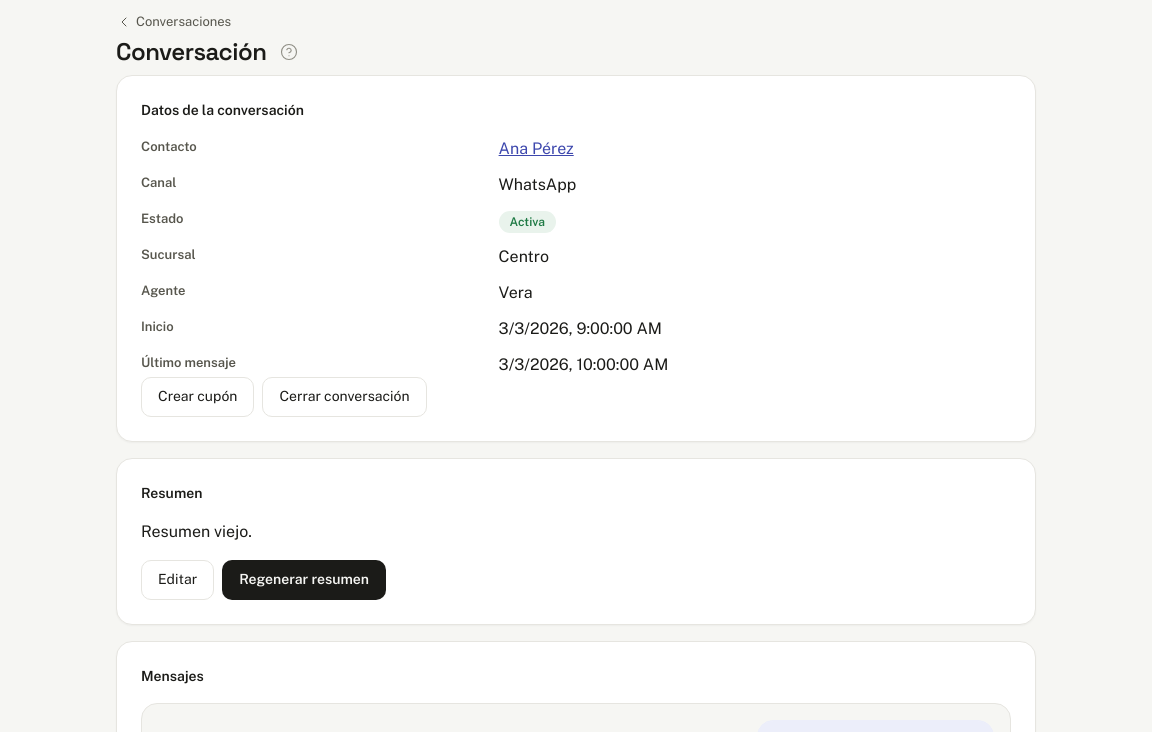
Test case: ConversationDetail › editar y guardar manda el PATCH con el texto nuevo
The width and height of the screenshot is (1152, 732).
Click the button "Editar" at [178, 580], box [141,560,214,600]
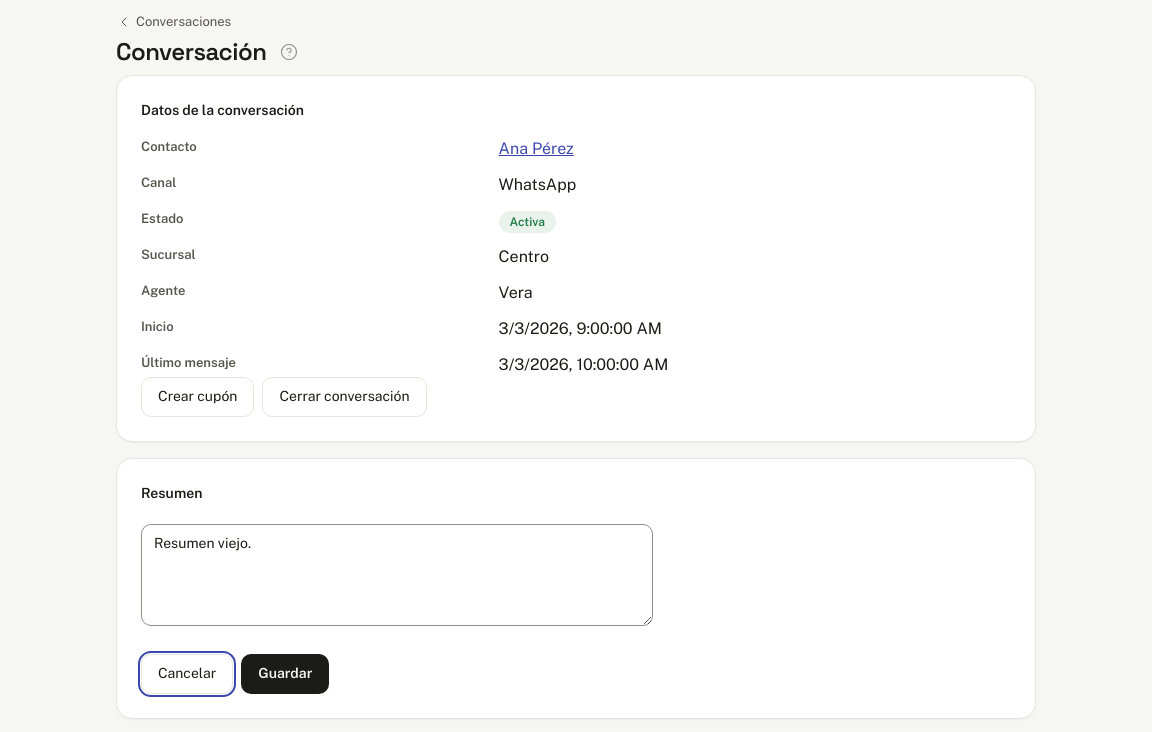
Expected: the text box named "Resumen de la conversación" holds "Resumen viejo."
Replace the text in the text box named "Resumen de la conversación" with "Resumen corregido." at [397, 575], box [141,524,653,626]
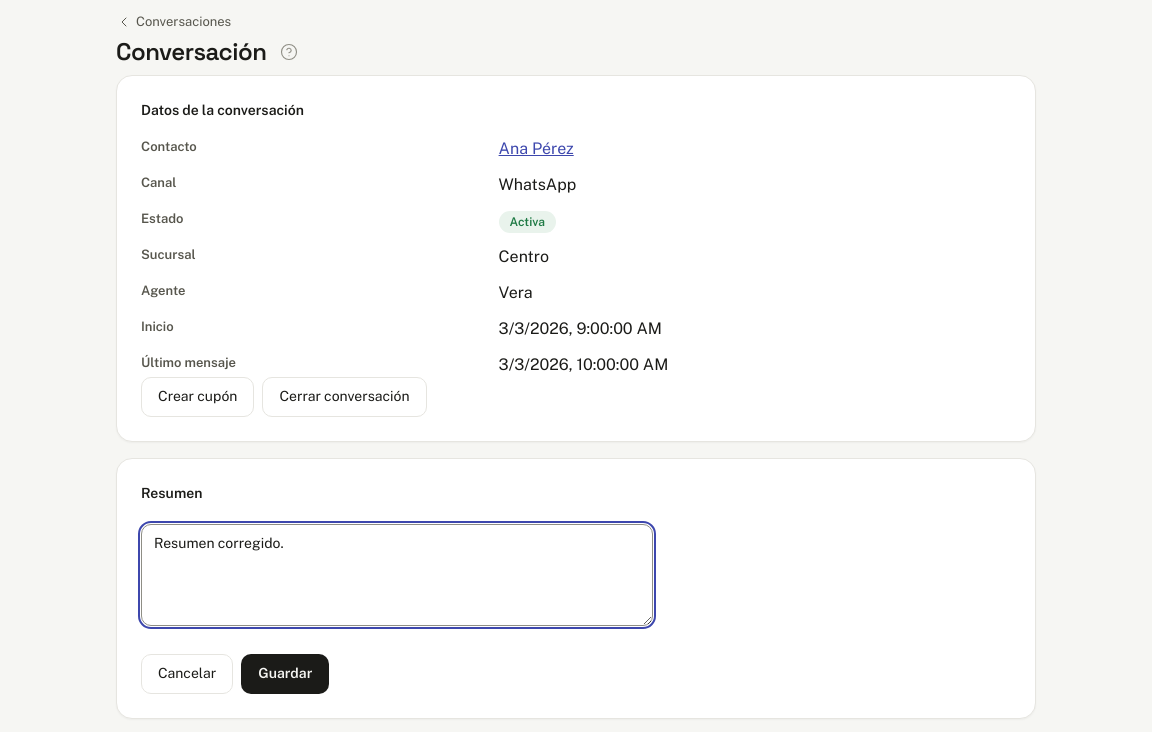
Click the button "Guardar" at [285, 674], box [241,654,329,694]
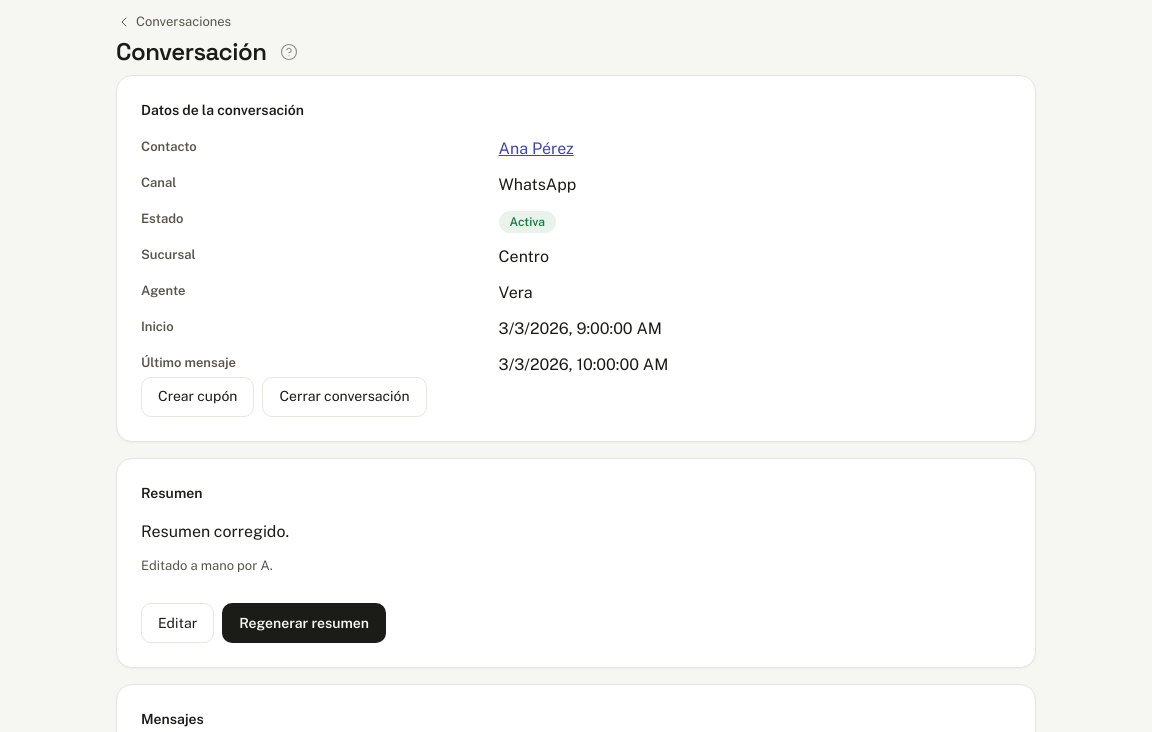
Expected: the field labelled "Resumen de la conversación" is not shown
Expected: the text "Resumen corregido." is shown, [141,522,289,541]
Expected: the text "Editado a mano por A." is shown, [141,558,273,573]
